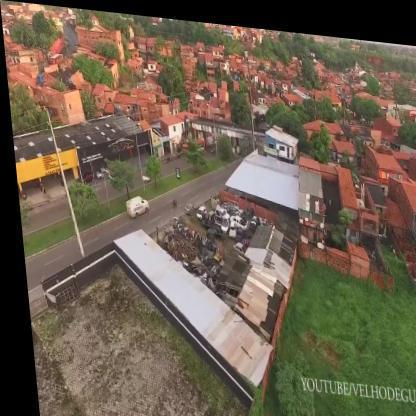lixo: (163, 215, 219, 286), (199, 191, 251, 246)
